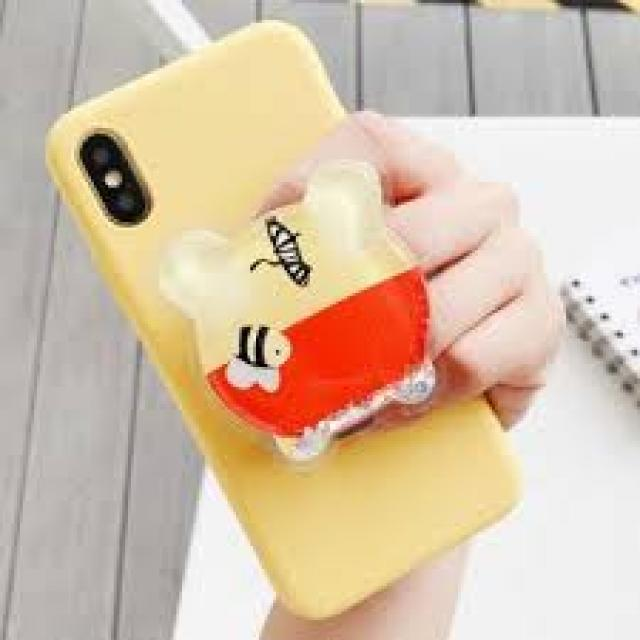Phone: (46, 14, 526, 625)
